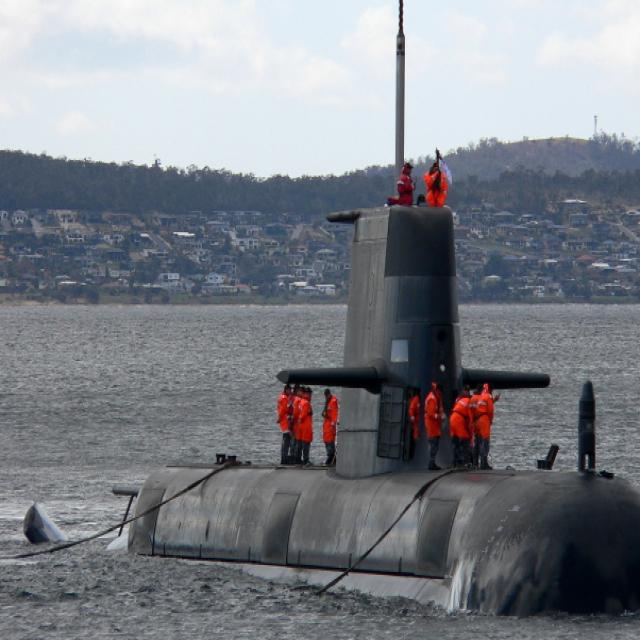submarine: (7, 1, 640, 611)
